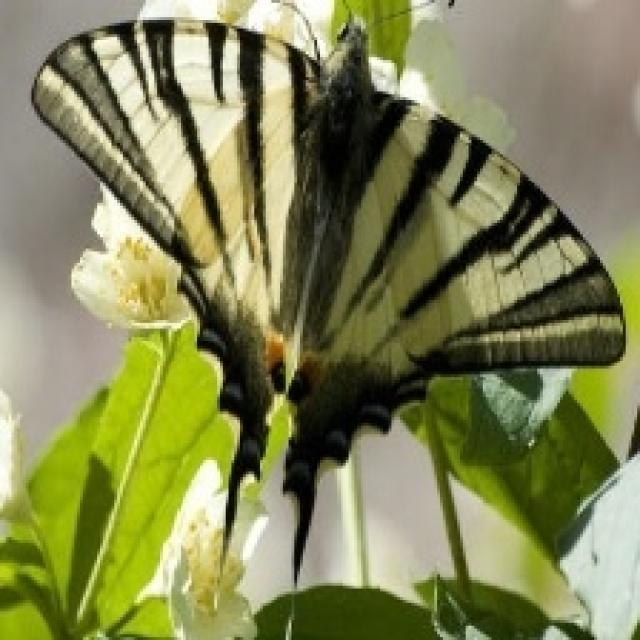butterfly: (29, 0, 626, 589)
